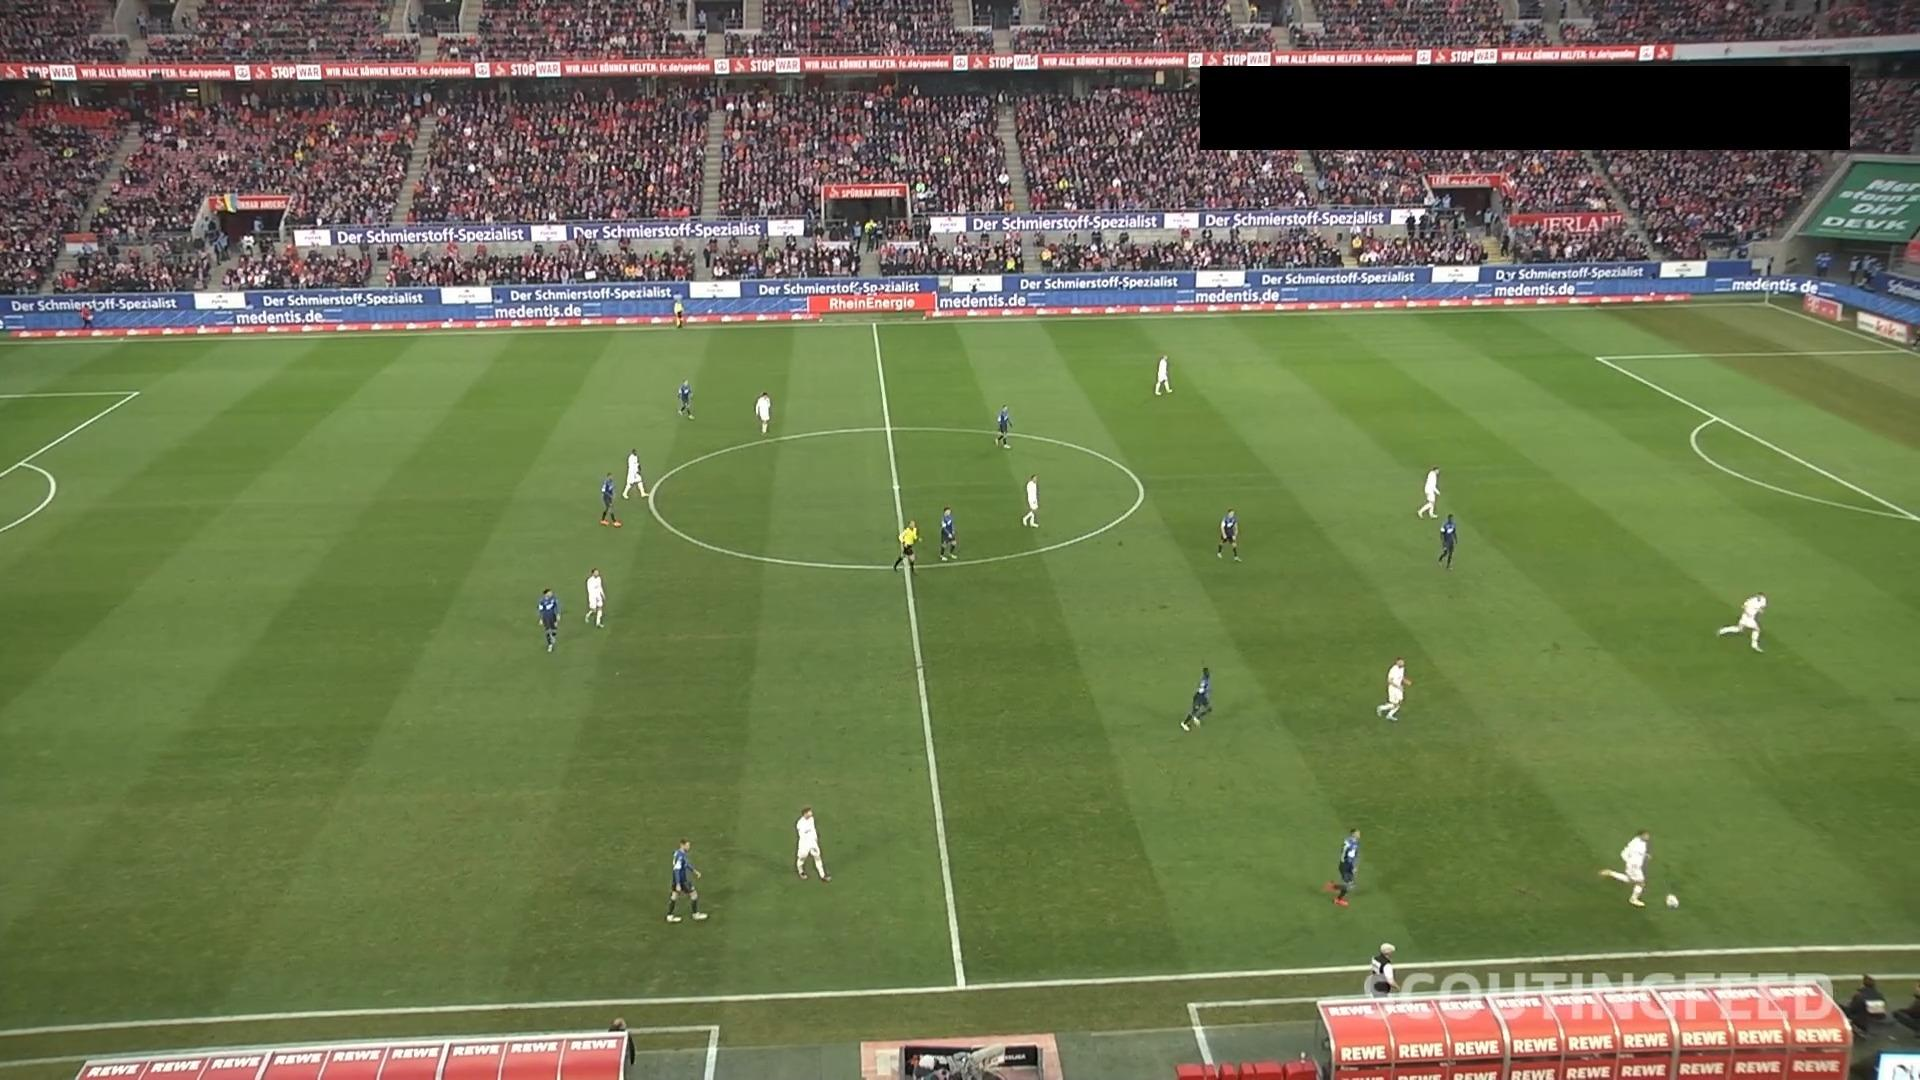ball: (1664, 893, 1680, 911)
